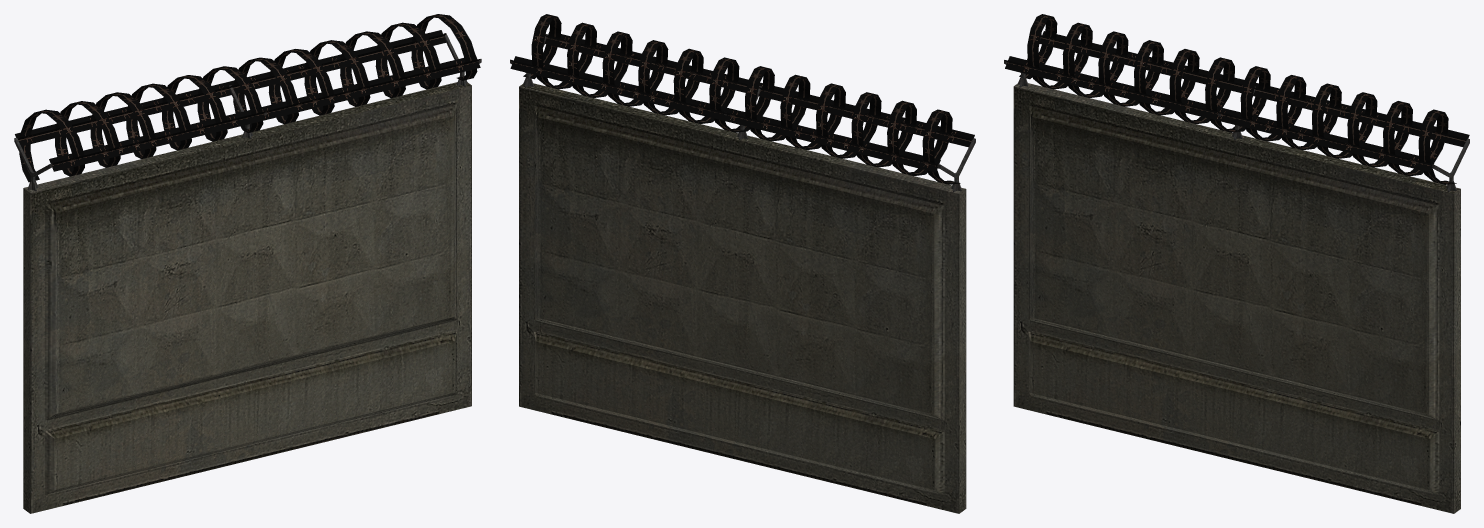
Rendered from concrete_fence_hr_2.obj.
3 views of the same model, side by side, from view 1: azimuth 30°, elevation 25°; view 2: azimuth 150°, elevation 25°; view 3: azimuth 330°, elevation 25° (orthographic).
Visible parts, largest first — view 1: concrete_fence_hr_2; view 2: concrete_fence_hr_2; view 3: concrete_fence_hr_2.
Boxes of the visible parts, x1,y1,x2,y2 form: concrete_fence_hr_2: [14, 14, 481, 513]; concrete_fence_hr_2: [510, 14, 975, 513]; concrete_fence_hr_2: [1004, 14, 1469, 513].
Bounding box in the file's own units: 3.6 × 3.06 × 0.5551.
